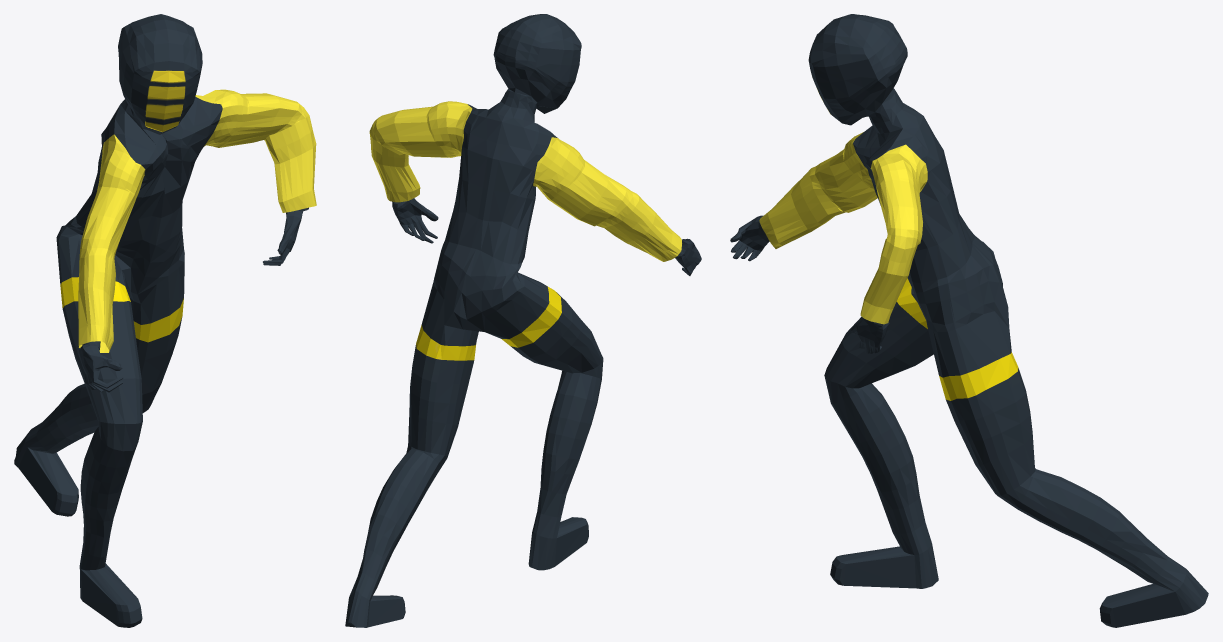
Rendered from Sentry_Die_000003.obj.
The picture shows the model from 3 angles, left to right: view 1: azimuth 30°, elevation 25°; view 2: azimuth 150°, elevation 25°; view 3: azimuth 270°, elevation 25°; orthographic projection. The views are drawn at different scales.
Visible parts, largest first — view 1: Cube; view 2: Cube; view 3: Cube.
Boxes of the visible parts, x1=… form: Cube: x1=14, y1=14, x2=316, y2=627; Cube: x1=345, y1=14, x2=701, y2=627; Cube: x1=730, y1=14, x2=1208, y2=627.
Size of the model in its own units: 1.77 by 3.39 by 2.49.
